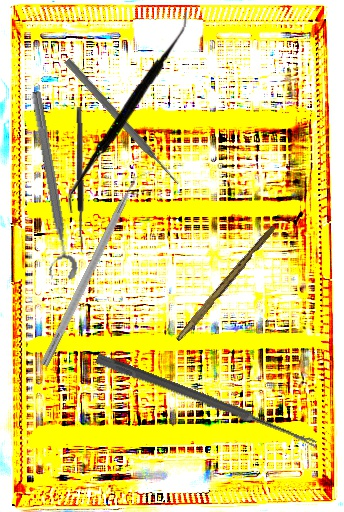Chopper: (40, 163, 156, 373)
Fixation Ring: (15, 89, 80, 284)
Hook Surgical: (75, 106, 92, 254)
Pusher: (62, 56, 183, 189)
Scalpel Handle: (175, 223, 277, 345)
Spatula Surgical: (67, 9, 190, 216)
Surgical Spoon: (94, 353, 319, 449)
